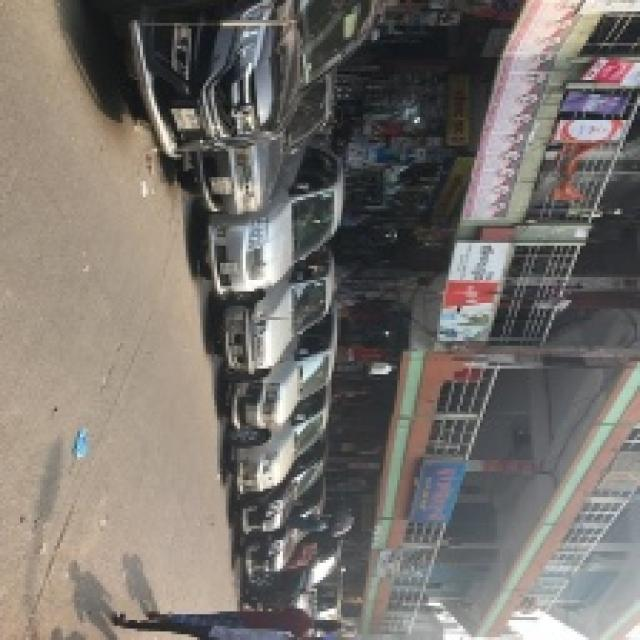car: (128, 8, 395, 151), (201, 147, 358, 298), (214, 262, 350, 365), (227, 334, 366, 431), (231, 409, 349, 492)
